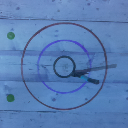Axe Tip: (76, 72, 87, 74)
